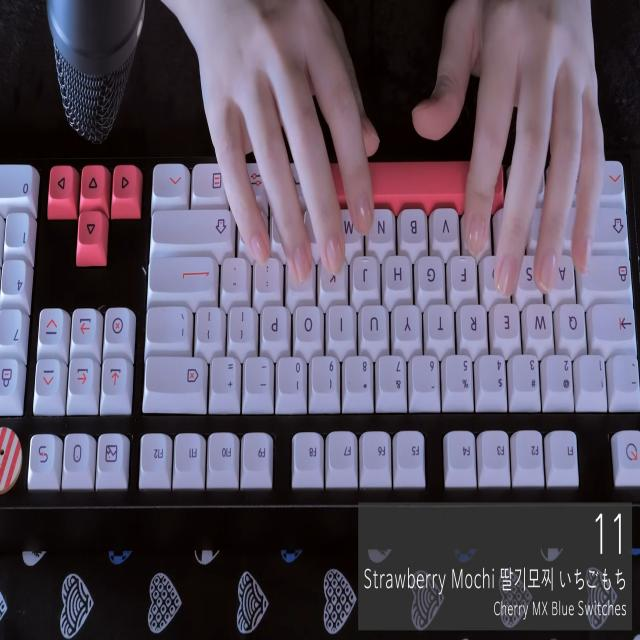keyboard-with-hands: (0, 161, 640, 503)
